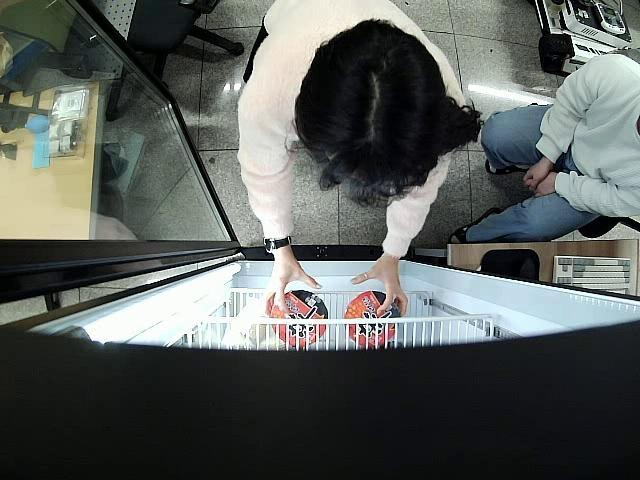01_ShinRamen_L: (272, 291, 327, 344), (346, 294, 402, 344)
